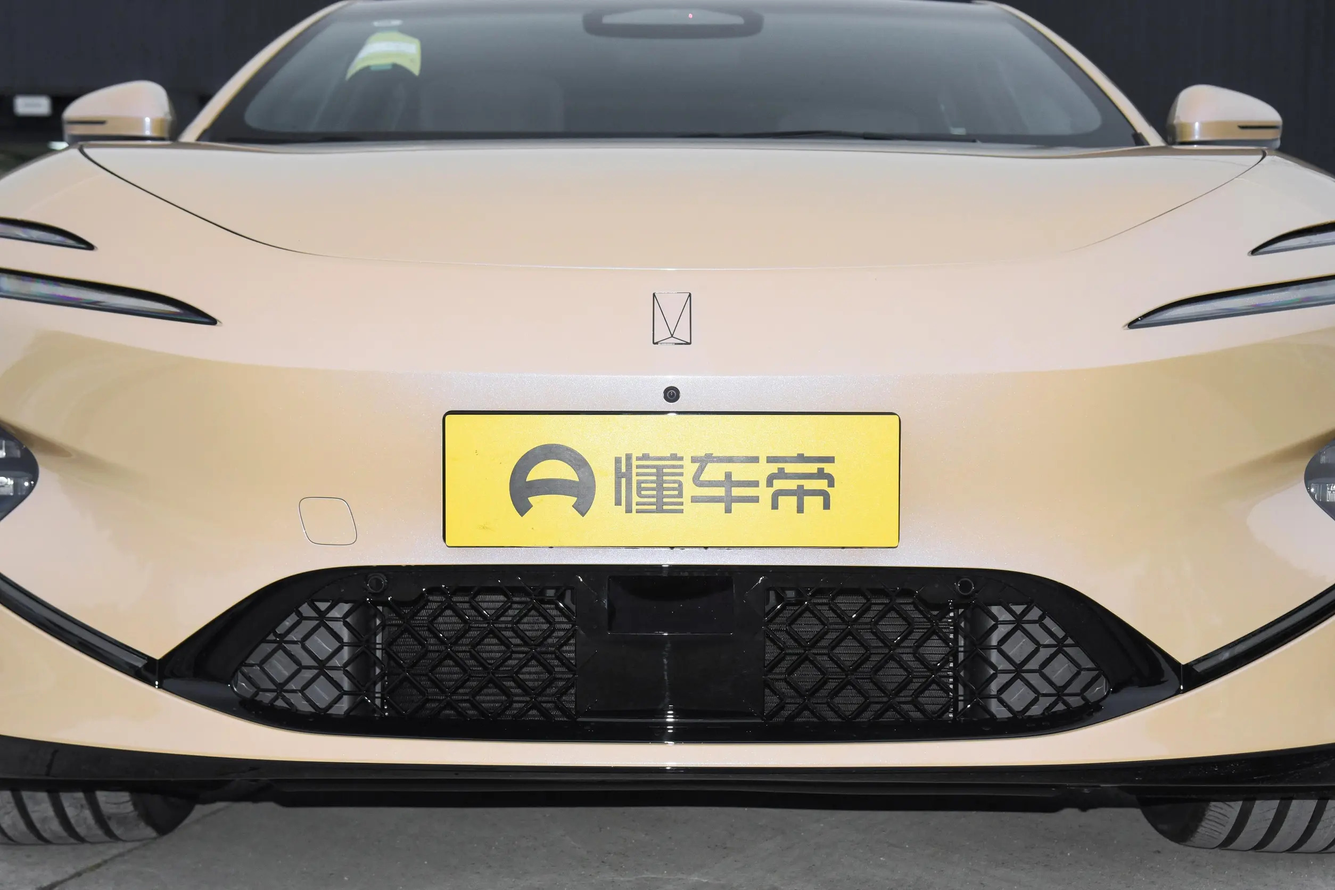AVATR: (653, 292, 691, 345)
